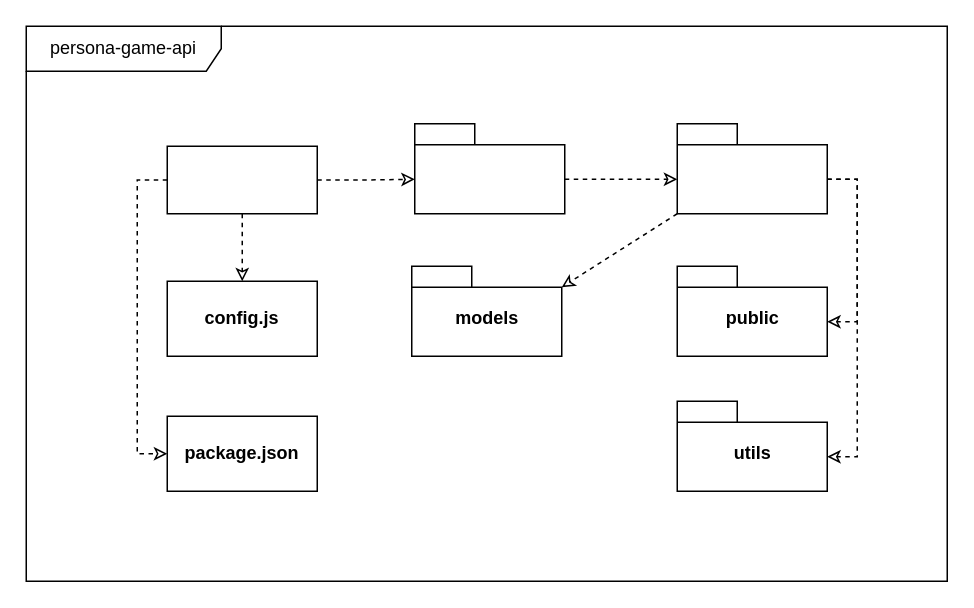
Image size: 974x608. Some labels were removed from this diagram. Here are the shapes that lost their labels. From the top down, the box of each, then its label:
(166, 145, 317, 214): app.js
(413, 122, 565, 214): views
(676, 122, 827, 214): controllers
